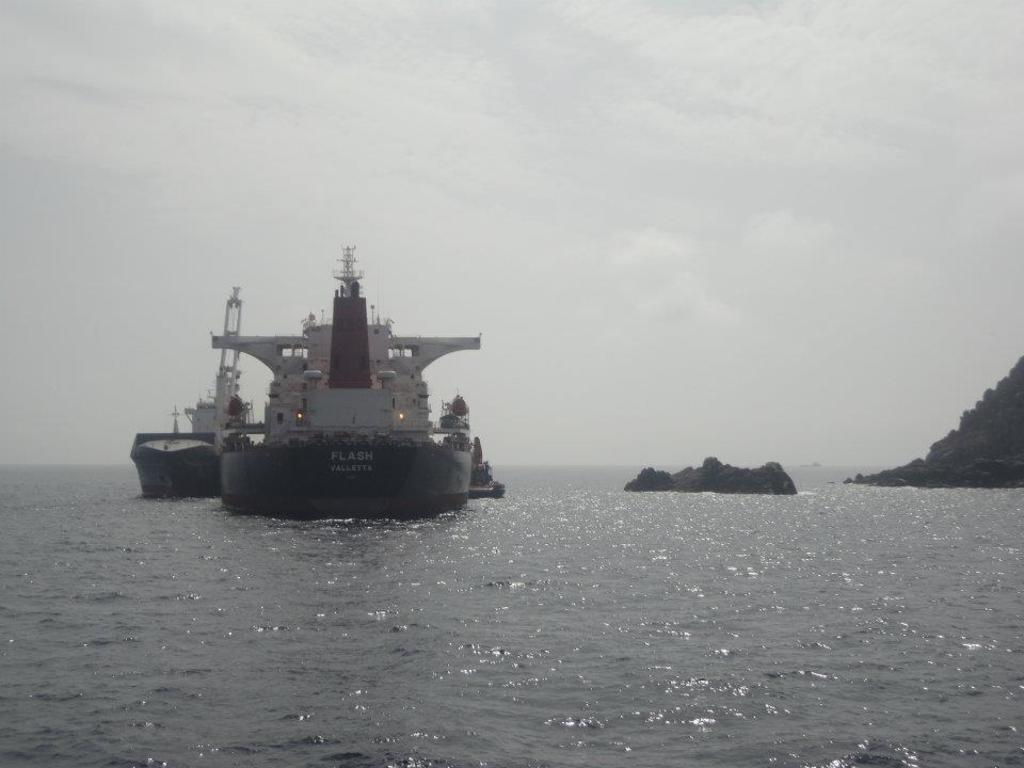boat: (187, 216, 543, 542), (110, 357, 264, 514)
